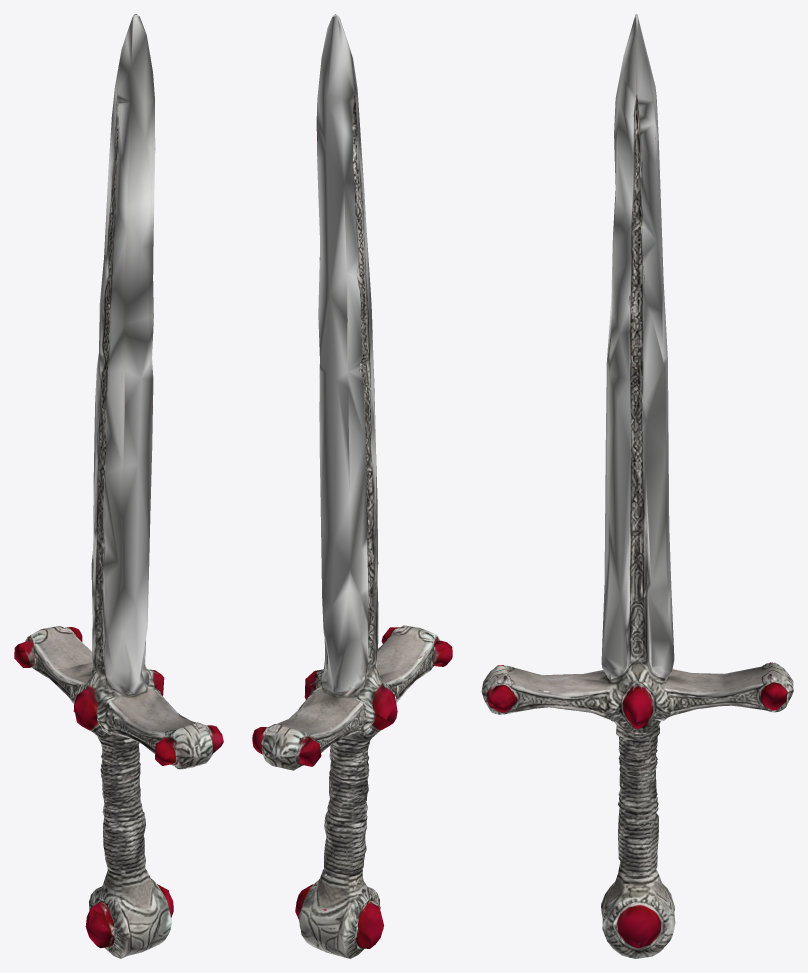
The model's file is gryffindor-sword.glb.
3 views of the same model, side by side, from view 1: azimuth 30°, elevation 25°; view 2: azimuth 150°, elevation 25°; view 3: azimuth 270°, elevation 25° (orthographic).
Parts seen in each view (by area): view 1: gryffindor-sword; view 2: gryffindor-sword; view 3: gryffindor-sword.
Part boxes in pixels (left/top/right/bottom): gryffindor-sword: left=14, top=14, right=223, bottom=958; gryffindor-sword: left=252, top=14, right=452, bottom=958; gryffindor-sword: left=481, top=14, right=793, bottom=958.
Size of the model in its own units: 0.103 by 0.9501 by 0.2856.
1 material, 1 textured.
